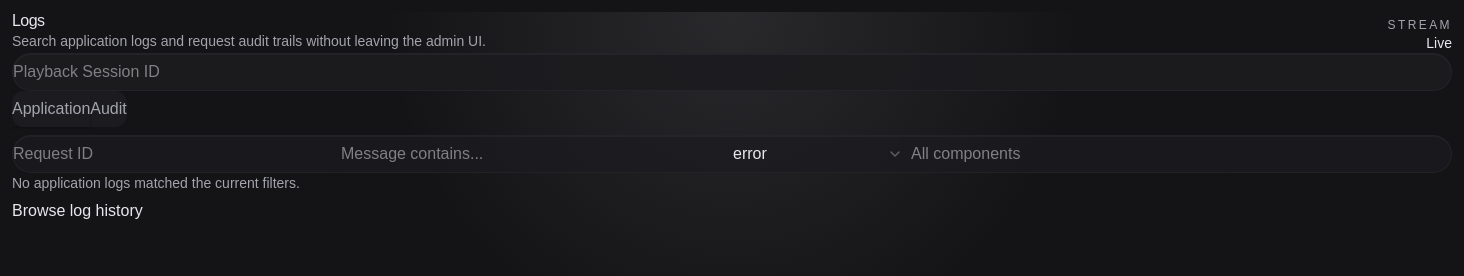
Test: admin log level and component filters › filters live and history logs by future.worker, including after clearing and re-entering it
Type "future.worker" into the field labelled "component" at (1071,154), box [911, 136, 1231, 172]
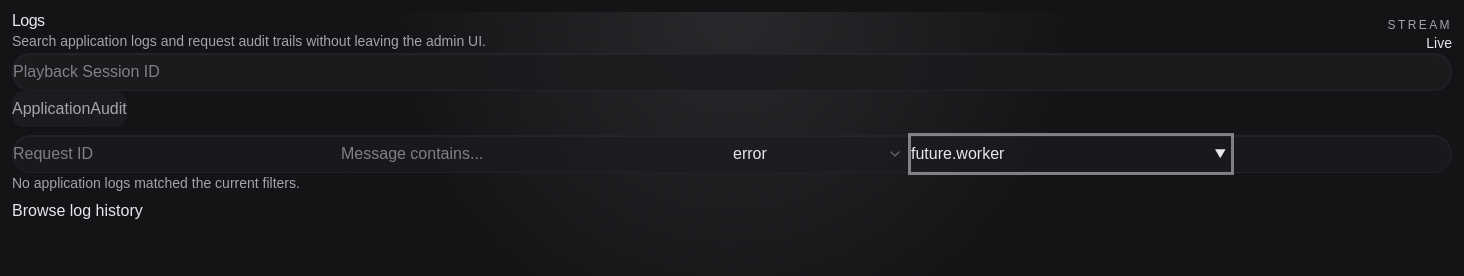
Click the button "Browse log history" at (77,211), box [12, 193, 143, 229]
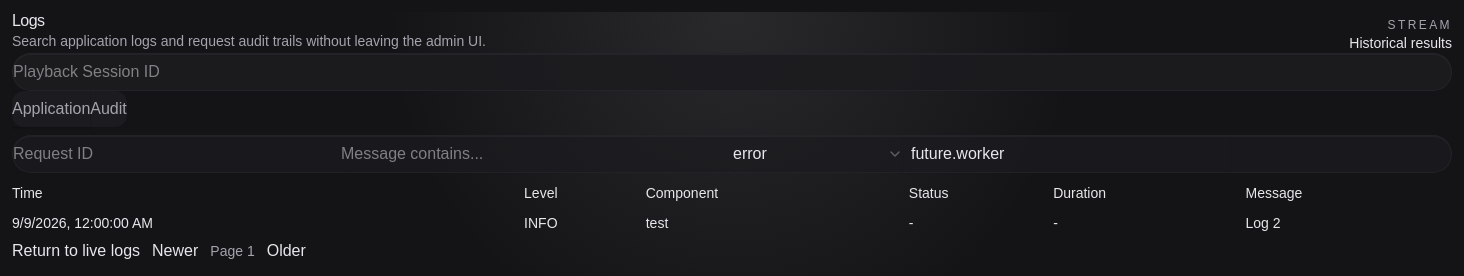
Clear the field named "component" at (1071,154), box [911, 136, 1231, 172]
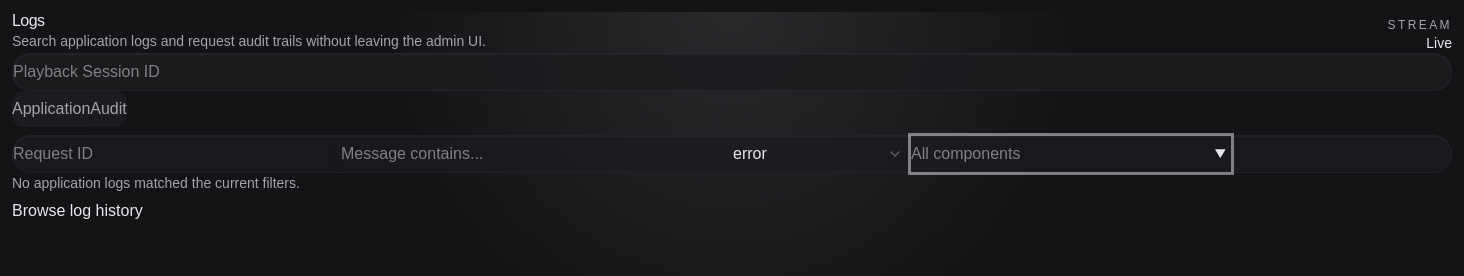
Expected: the button "Browse log history" is shown, [12, 193, 143, 229]
Type "future.worker" into the field labelled "component" at (1071,154), box [911, 136, 1231, 172]
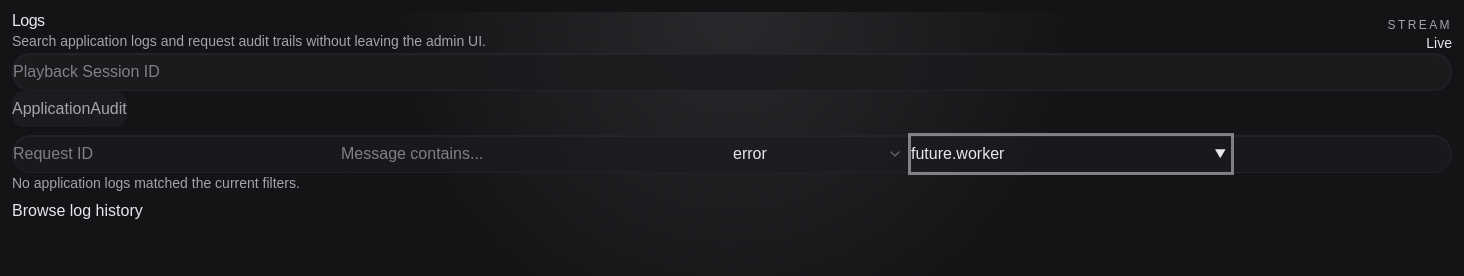
Click the button "Browse log history" at (77,211), box [12, 193, 143, 229]
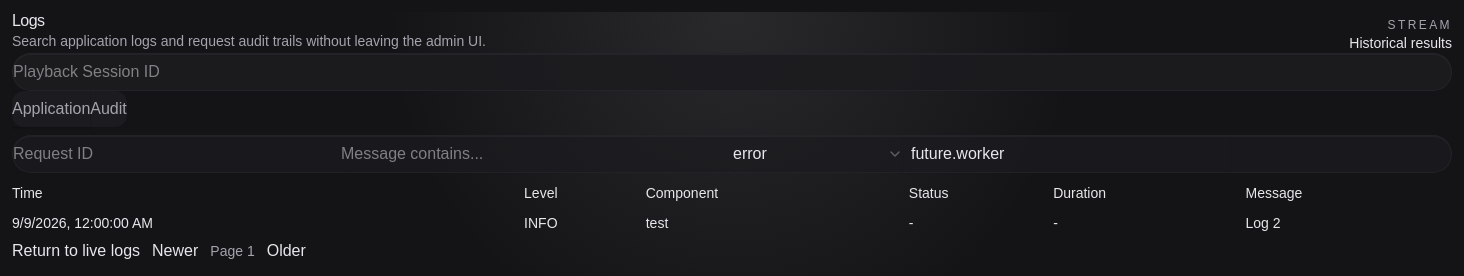
Clear the field named "component" at (1071,154), box [911, 136, 1231, 172]
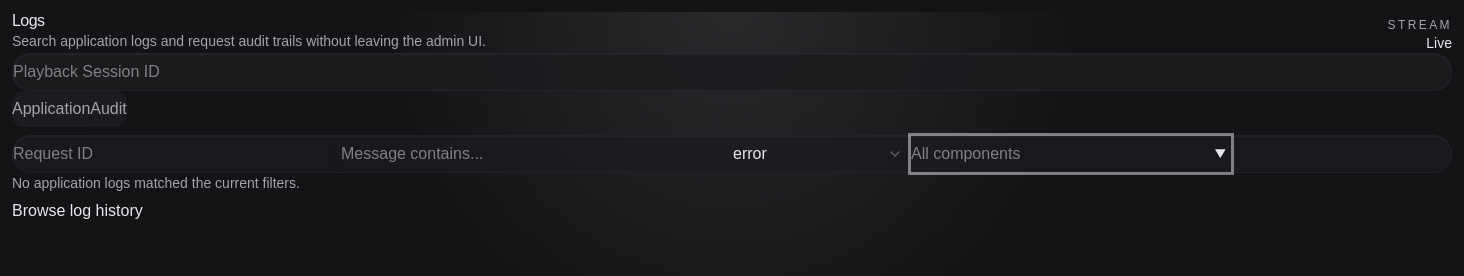
Expected: the button "Browse log history" is shown, [12, 193, 143, 229]
